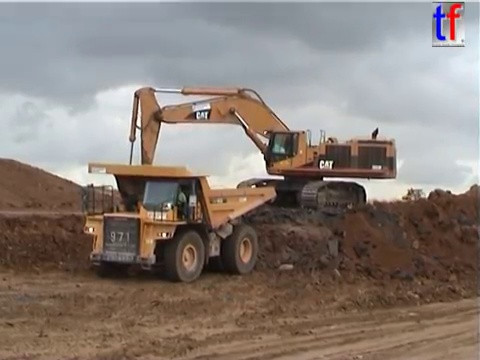excavator: (114, 84, 399, 229)
truck: (80, 160, 279, 283), (401, 187, 427, 205)
